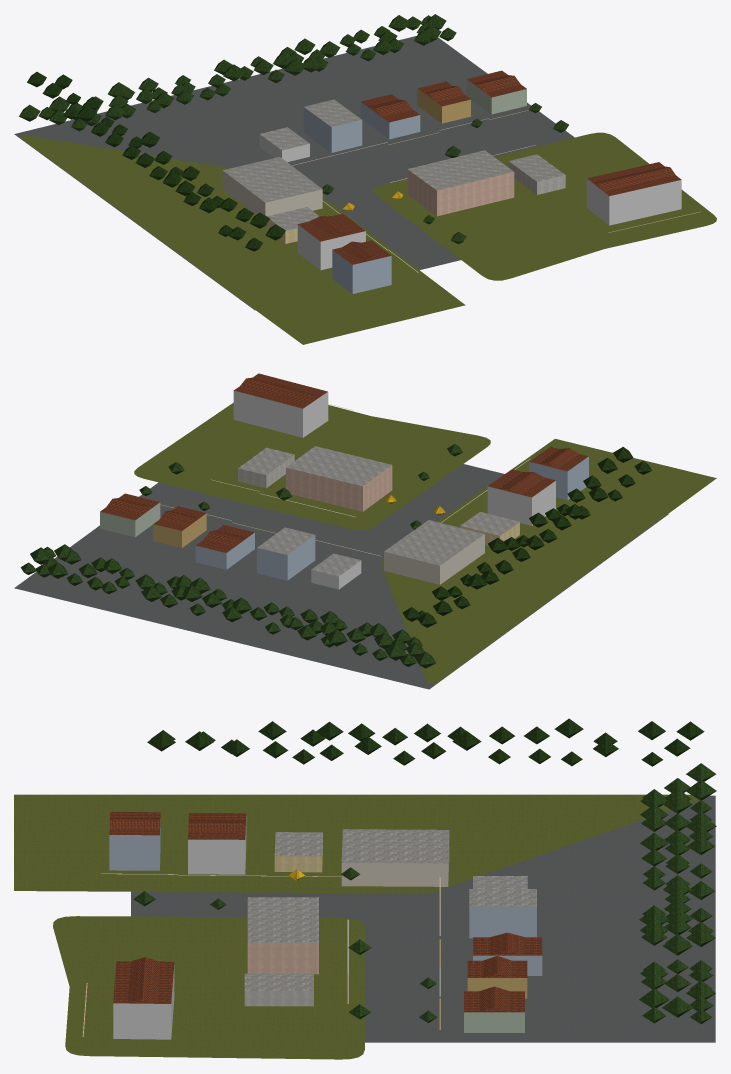
File: cidade_S00_07_lod.gltf
The picture shows the model from 3 angles, top to bottom: view 1: azimuth 30°, elevation 25°; view 2: azimuth 150°, elevation 25°; view 3: azimuth 270°, elevation 25°; orthographic projection. The views are drawn at different scales.
Parts seen in each view (by area): view 1: S00_07_Chao_LOD2, S00_07_Edificios_LOD1, S00_07_Vegetacao_LOD2, S00_07_Silhueta_LOD2; view 2: S00_07_Chao_LOD2, S00_07_Edificios_LOD1, S00_07_Vegetacao_LOD2, S00_07_Silhueta_LOD2; view 3: S00_07_Chao_LOD2, S00_07_Edificios_LOD1, S00_07_Vegetacao_LOD2, S00_07_Silhueta_LOD2.
Boxes of the visible parts, left/top/right/bottom form: S00_07_Chao_LOD2: left=14, top=36, right=716, bottom=344; S00_07_Edificios_LOD1: left=222, top=75, right=700, bottom=293; S00_07_Vegetacao_LOD2: left=19, top=14, right=568, bottom=251; S00_07_Silhueta_LOD2: left=297, top=70, right=681, bottom=293; S00_07_Chao_LOD2: left=14, top=402, right=716, bottom=689; S00_07_Edificios_LOD1: left=100, top=377, right=588, bottom=589; S00_07_Vegetacao_LOD2: left=20, top=444, right=651, bottom=668; S00_07_Silhueta_LOD2: left=100, top=373, right=588, bottom=568; S00_07_Chao_LOD2: left=14, top=794, right=715, bottom=1059; S00_07_Edificios_LOD1: left=82, top=817, right=542, bottom=1039; S00_07_Vegetacao_LOD2: left=133, top=718, right=716, bottom=1023; S00_07_Silhueta_LOD2: left=109, top=812, right=542, bottom=1039.
Size of the model in its own units: 107 by 15.95 by 120.
Materials: 16 (16 with a texture image).
